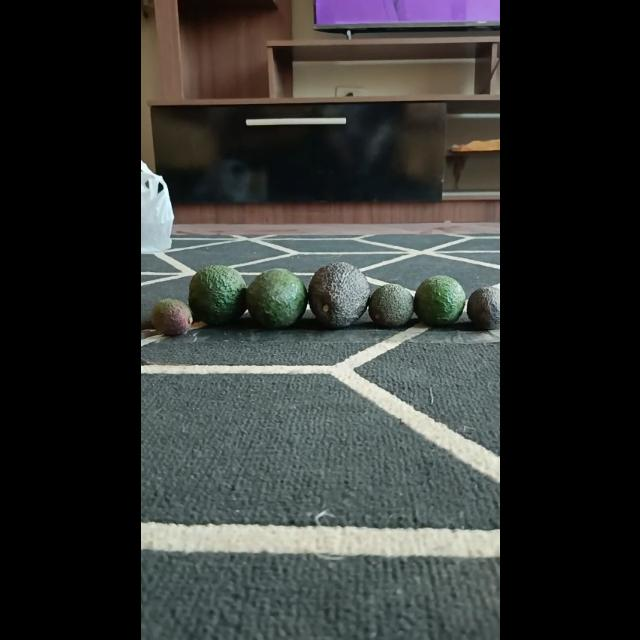Primera: (307, 262, 369, 328), (246, 268, 308, 328), (187, 265, 247, 325)
Segunda: (413, 274, 465, 326)
Tercera: (368, 284, 414, 328), (150, 297, 192, 335), (465, 286, 499, 330)
